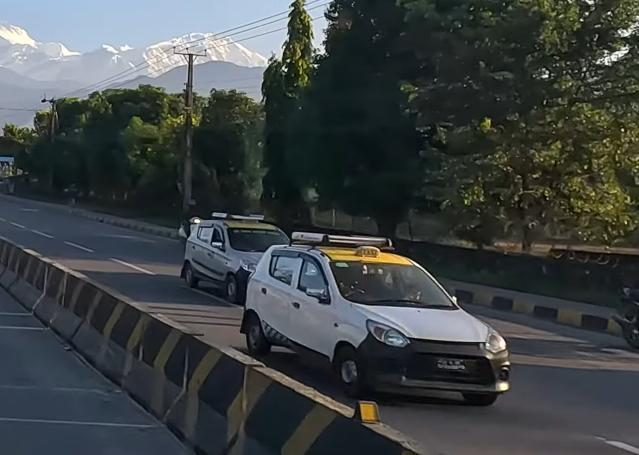taxi: (243, 220, 512, 413), (183, 205, 297, 301)
